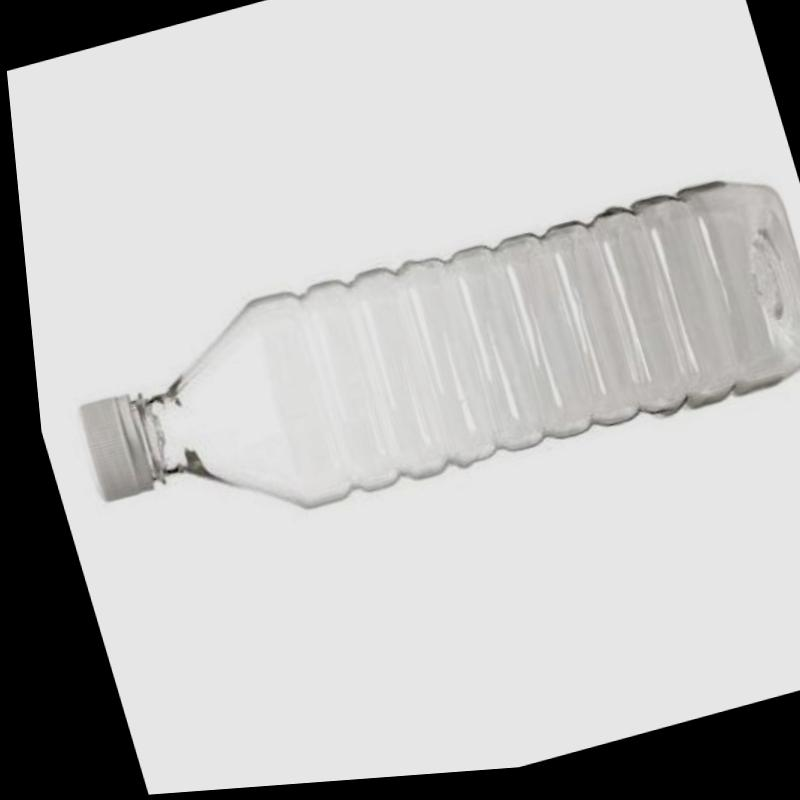botella: (36, 173, 800, 569)
